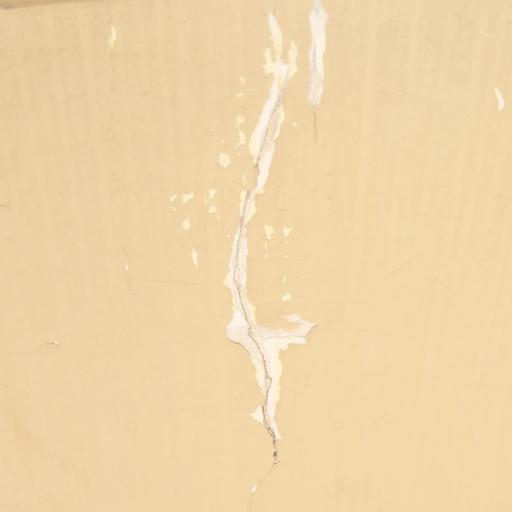peeling: (203, 3, 342, 466)
